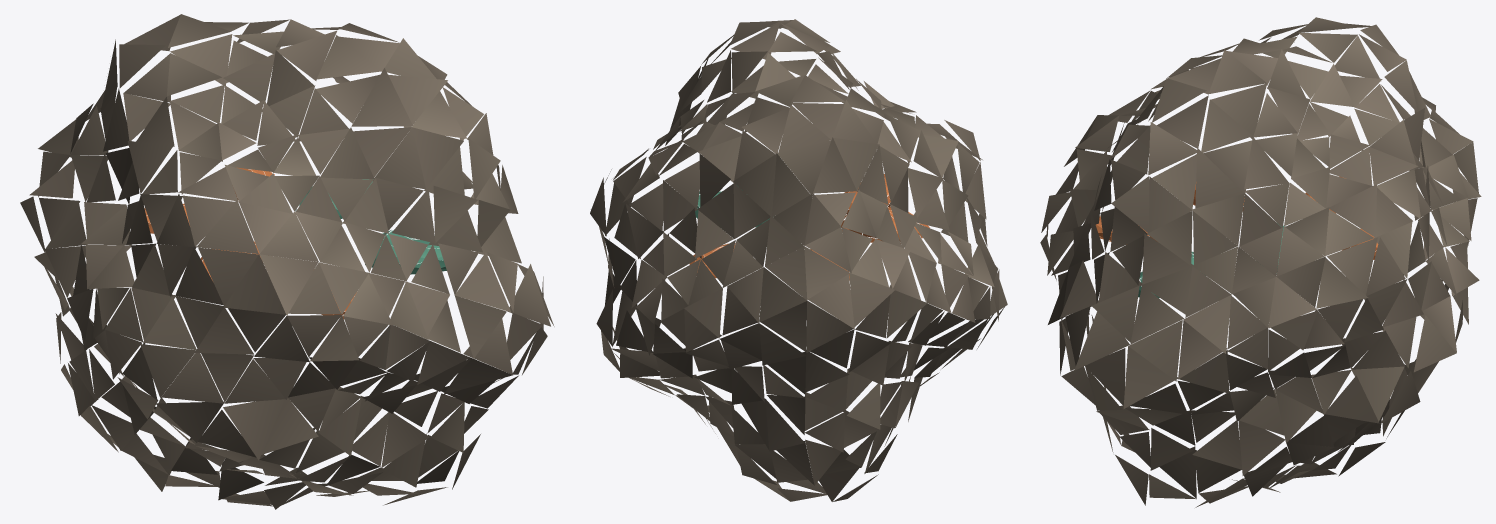
The model's file is standard-lod1.glb.
The picture shows the model from 3 angles, left to right: view 1: azimuth 30°, elevation 25°; view 2: azimuth 150°, elevation 25°; view 3: azimuth 270°, elevation 25°; orthographic projection. The views are drawn at different scales.
Visible parts, largest first — view 1: copper-host-rock, copper-mineral-seams; view 2: copper-host-rock, copper-mineral-seams; view 3: copper-host-rock, copper-mineral-seams.
Part boxes in pixels (box(x1,y1,x2,y2)): copper-host-rock: box(20, 14, 554, 509); copper-mineral-seams: box(144, 167, 446, 318); copper-host-rock: box(590, 19, 1007, 501); copper-mineral-seams: box(689, 174, 929, 280); copper-host-rock: box(1040, 17, 1481, 507); copper-mineral-seams: box(1095, 176, 1378, 298).
Bounding box in the file's own units: 2.49 × 2.89 × 2.5.
